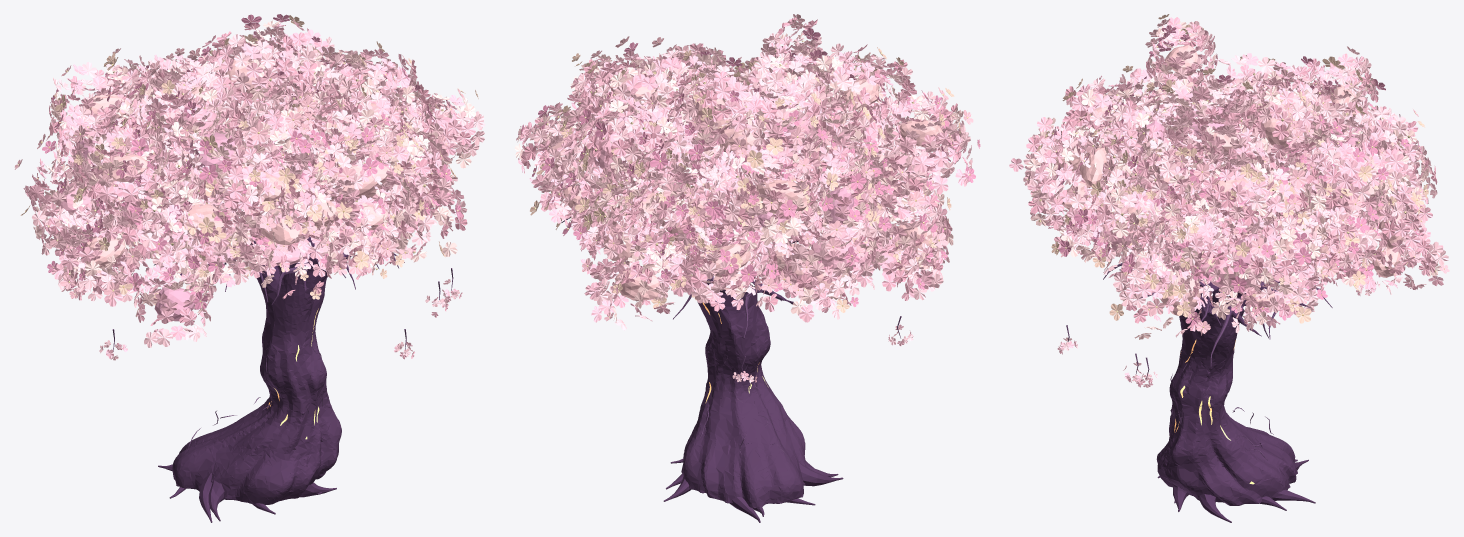
Rendered from sakura_hero_r17.glb.
3 renders of one model, left to right at view 1: azimuth 30°, elevation 25°; view 2: azimuth 150°, elevation 25°; view 3: azimuth 270°, elevation 25°, orthographic. The views are drawn at different scales.
Visible parts, largest first — view 1: Sakura_petal_pink, Sakura_petal_blush, Trunk_bark_plumblack, R17_Lush_Additional_Crown_quality, Sakura_petal_warm_rose, Sakura_petal_cream, Canopy_peach, Canopy_rose, Canopy_depth_rose, Branches_plum; view 2: Sakura_petal_pink, Sakura_petal_blush, R17_Lush_Additional_Crown_quality, Trunk_bark_plumblack, Sakura_petal_warm_rose, Sakura_petal_cream, Canopy_peach, Canopy_rose, Canopy_depth_rose, Branches_plum; view 3: Sakura_petal_pink, Sakura_petal_blush, R17_Lush_Additional_Crown_quality, Trunk_bark_plumblack, Sakura_petal_warm_rose, Sakura_petal_cream, Canopy_peach, Canopy_rose, Branches_plum, Canopy_depth_rose.
Part boxes in pixels (x1,y1,x2,y2): Sakura_petal_pink: (23,19,475,359); Sakura_petal_blush: (29,27,485,360); Trunk_bark_plumblack: (158,237,354,522); R17_Lush_Additional_Crown_quality: (14,14,478,309); Sakura_petal_warm_rose: (35,23,471,340); Sakura_petal_cream: (33,20,476,316); Canopy_peach: (70,60,419,282); Canopy_rose: (58,57,456,265); Canopy_depth_rose: (76,87,305,321); Branches_plum: (111,250,453,450); Sakura_petal_pink: (518,23,969,382); Sakura_petal_blush: (522,29,972,382); R17_Lush_Additional_Crown_quality: (516,14,980,321); Trunk_bark_plumblack: (663,235,843,522); Sakura_petal_warm_rose: (520,17,968,311); Sakura_petal_cream: (514,31,963,322); Canopy_peach: (550,68,943,300); Canopy_rose: (591,112,937,269); Canopy_depth_rose: (585,76,909,226); Branches_plum: (561,216,901,462); Sakura_petal_pink: (1009,28,1443,387); Sakura_petal_blush: (1023,21,1448,387); R17_Lush_Additional_Crown_quality: (1023,14,1449,333); Trunk_bark_plumblack: (1119,254,1315,522); Sakura_petal_warm_rose: (1026,17,1437,331); Sakura_petal_cream: (1026,21,1441,339); Canopy_peach: (1056,45,1403,315); Canopy_rose: (1103,88,1352,287); Branches_plum: (1066,253,1369,460); Canopy_depth_rose: (1128,105,1362,279).
Bounding box in the file's own units: 26.59 × 27 × 25.99.
